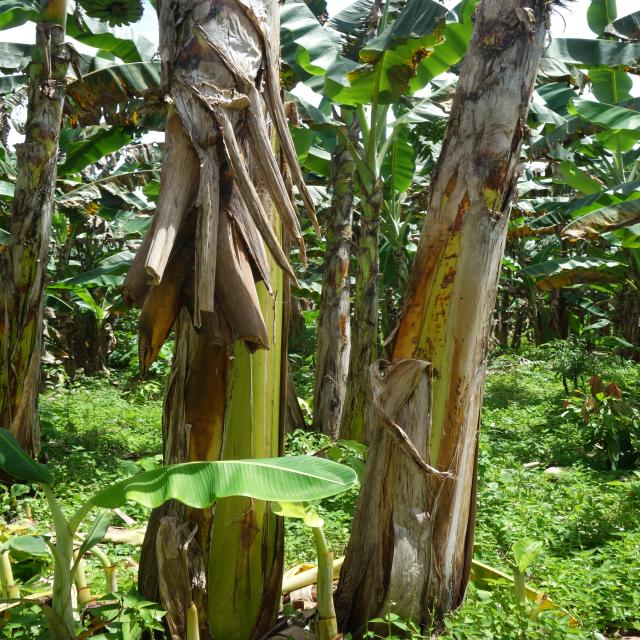Banana-plant: (353, 0, 557, 634), (168, 75, 286, 638), (0, 0, 71, 469), (325, 98, 376, 439)
